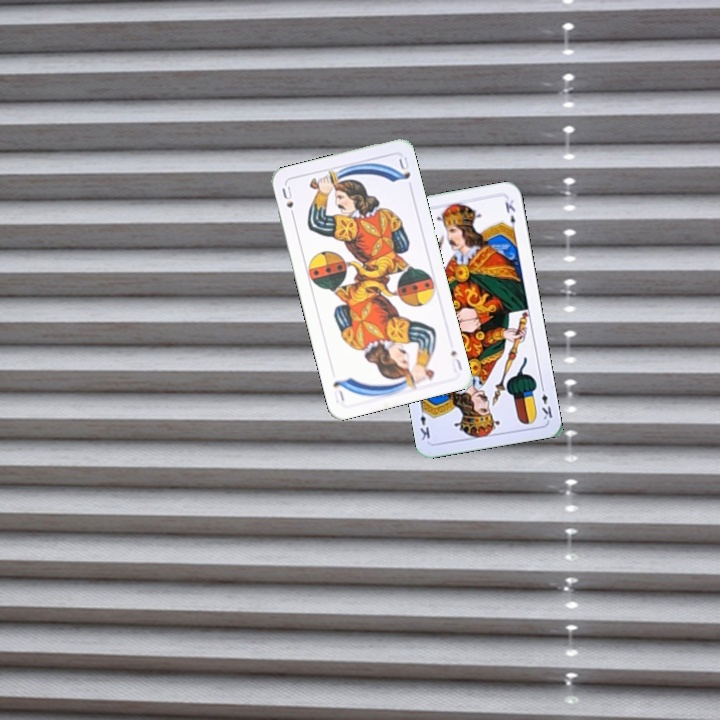EK: (537, 381, 555, 422)
SU: (278, 181, 298, 221), (447, 346, 465, 375)
